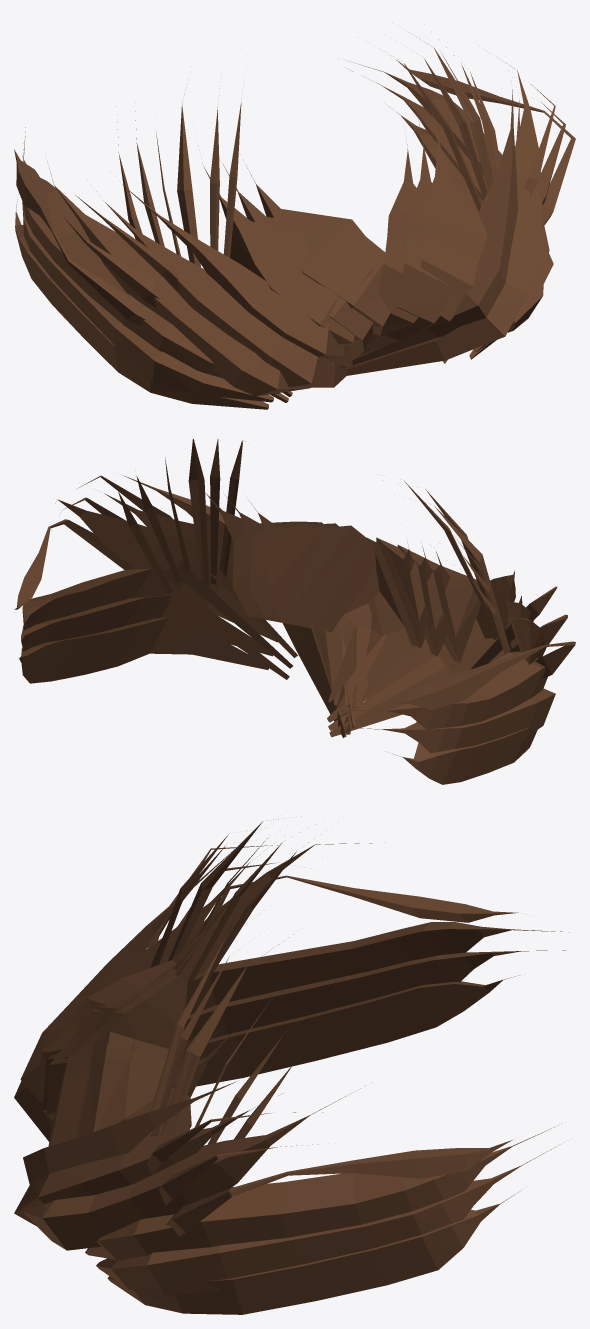
Rendered from PeinadoDensoEtapa4.fbx.
3 views of the same model, one above another, from view 1: azimuth 30°, elevation 25°; view 2: azimuth 150°, elevation 25°; view 3: azimuth 270°, elevation 25° (orthographic). The views are drawn at different scales.
Visible parts, largest first — view 1: PeinadoDensoEtapa4; view 2: PeinadoDensoEtapa4; view 3: PeinadoDensoEtapa4.
Boxes of the visible parts, bbox=[...] form: PeinadoDensoEtapa4: bbox=[14, 25, 575, 409]; PeinadoDensoEtapa4: bbox=[14, 439, 575, 784]; PeinadoDensoEtapa4: bbox=[14, 818, 569, 1314].
Size of the model in its own units: 1.44 by 0.8349 by 1.13.
